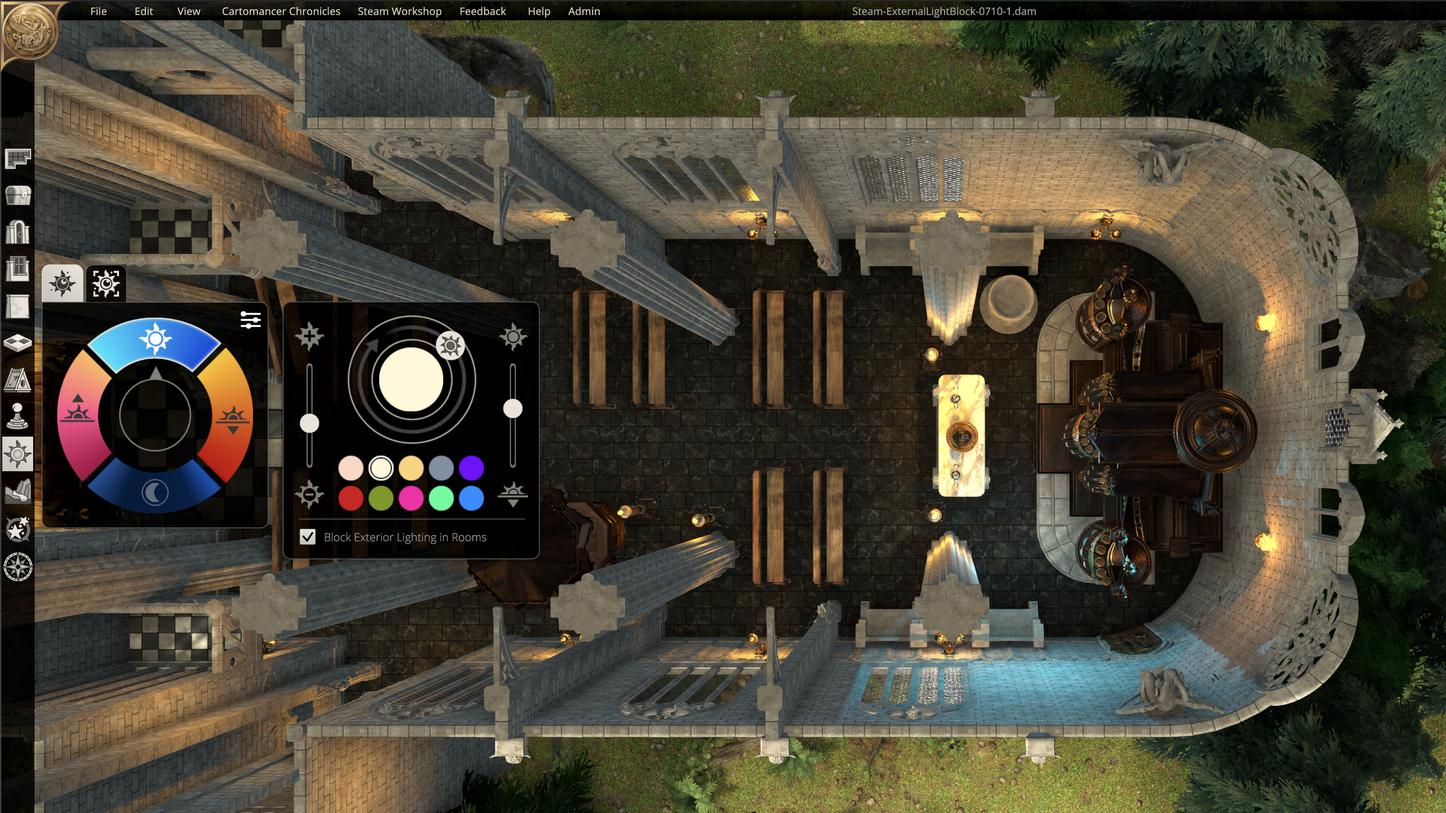not a gesture sign: (651, 157, 1081, 701)
